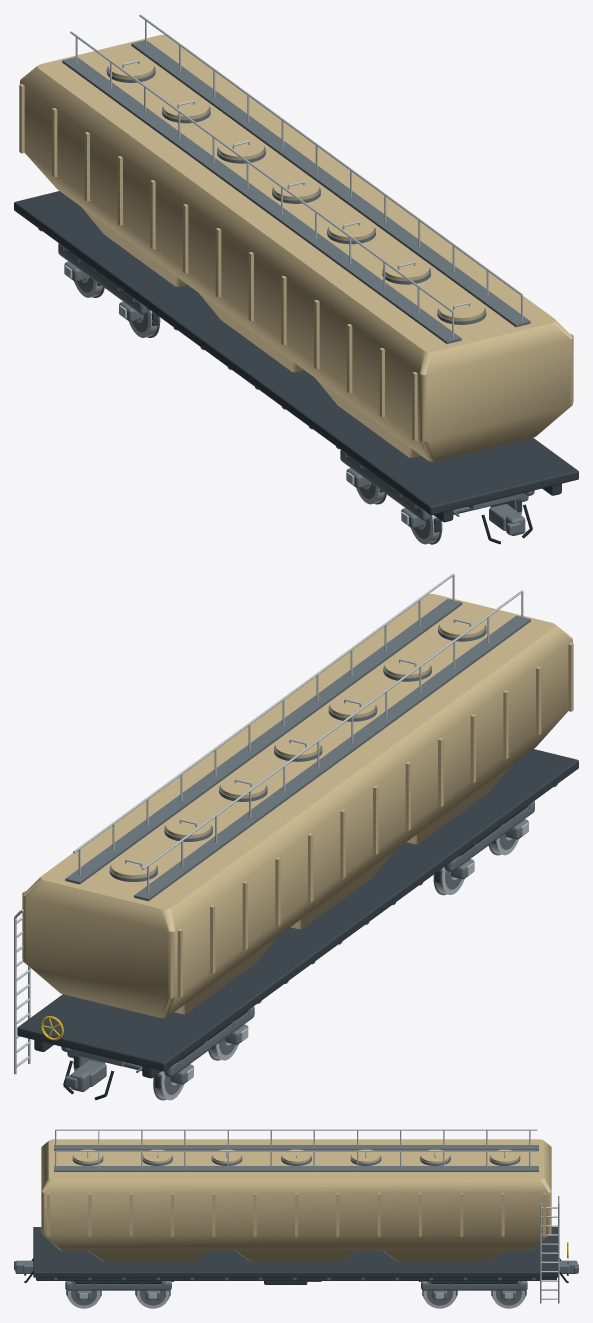
The model's file is wagon_grain_hopper.glb.
The picture shows the model from 3 angles, top to bottom: view 1: azimuth 30°, elevation 25°; view 2: azimuth 150°, elevation 25°; view 3: azimuth 270°, elevation 25°; orthographic projection. The views are drawn at different scales.
Visible parts, largest first — view 1: hopper_body, deck, roof_hatches, hopper_discharge, bogie_0_frame, bogie_1_frame, coupler_front, underframe; view 2: hopper_body, deck, roof_hatches, hopper_discharge, bogie_1_frame, bogie_0_frame, coupler_rear, access_ladders, underframe; view 3: hopper_body, deck, roof_hatches, hopper_discharge, underframe, bogie_0_frame, bogie_1_frame, access_ladders, bogie_0_wheel_0_R, bogie_1_wheel_1_R, bogie_0_wheel_1_R, bogie_1_wheel_0_R (+2 smaller).
Boxes of the visible parts, x1,y1,x2,y2 form: hopper_body: [19, 35, 573, 461]; deck: [14, 191, 578, 515]; roof_hatches: [62, 14, 530, 343]; hopper_discharge: [82, 207, 420, 457]; bogie_0_frame: [340, 450, 534, 532]; bogie_1_frame: [58, 243, 158, 325]; coupler_front: [481, 504, 532, 544]; underframe: [38, 228, 561, 522]; hopper_body: [22, 594, 573, 1018]; deck: [17, 749, 578, 1071]; roof_hatches: [65, 573, 530, 901]; hopper_discharge: [174, 765, 511, 1014]; bogie_1_frame: [61, 1006, 254, 1088]; bogie_0_frame: [435, 801, 534, 883]; coupler_rear: [63, 1060, 114, 1099]; access_ladders: [14, 909, 30, 1074]; underframe: [34, 784, 557, 1078]; hopper_body: [41, 1139, 551, 1250]; deck: [33, 1227, 557, 1277]; roof_hatches: [54, 1129, 538, 1171]; hopper_discharge: [88, 1250, 504, 1281]; underframe: [36, 1277, 556, 1280]; bogie_0_frame: [65, 1281, 171, 1299]; bogie_1_frame: [421, 1281, 527, 1299]; access_ladders: [540, 1196, 559, 1303]; bogie_0_wheel_0_R: [67, 1290, 100, 1308]; bogie_1_wheel_1_R: [492, 1290, 525, 1308]; bogie_0_wheel_1_R: [136, 1290, 169, 1308]; bogie_1_wheel_0_R: [423, 1290, 456, 1308].
Size of the model in its own units: 3.22 by 4.79 by 15.72.
